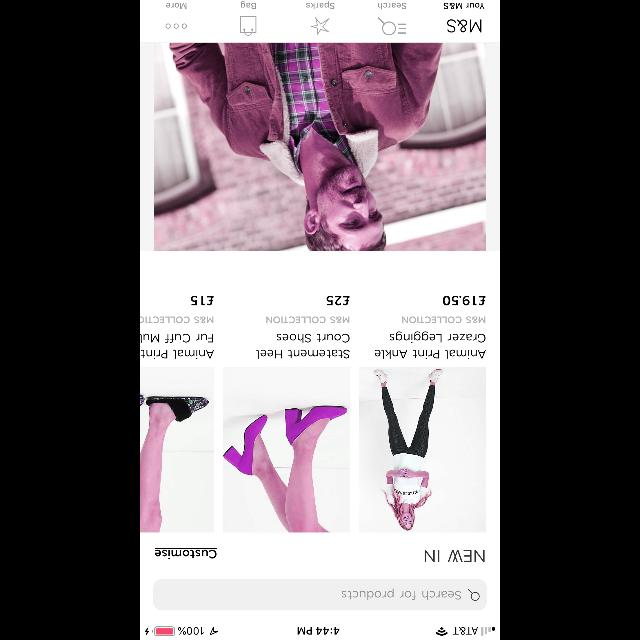icon: (378, 17, 406, 35), (447, 20, 481, 32), (310, 17, 330, 35), (240, 16, 256, 36), (467, 589, 479, 601), (166, 24, 187, 28)
image: (154, 43, 486, 251), (222, 368, 350, 532), (359, 368, 485, 534), (140, 368, 214, 532)
input: (154, 580, 486, 610)
text: (374, 331, 486, 359), (256, 334, 350, 358), (140, 333, 214, 359), (342, 588, 461, 600), (424, 550, 484, 562), (266, 316, 350, 324), (402, 316, 484, 324), (155, 548, 217, 558), (140, 316, 213, 324), (442, 295, 486, 305), (444, 3, 484, 9), (190, 295, 213, 305), (326, 295, 349, 305), (306, 1, 334, 9), (378, 3, 406, 9), (240, 1, 256, 9), (166, 3, 186, 9)
uppertaskbar: (140, 626, 500, 640)
